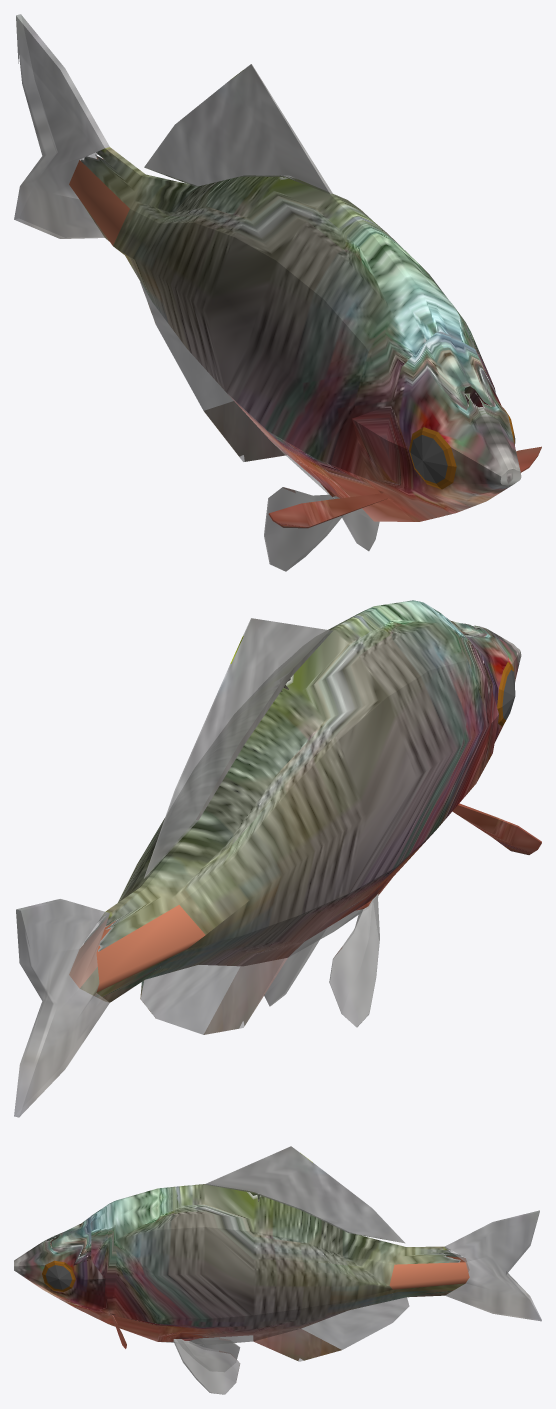
Rendered from kurumeusu.fbx.
The picture shows the model from 3 angles, top to bottom: view 1: azimuth 30°, elevation 25°; view 2: azimuth 150°, elevation 25°; view 3: azimuth 270°, elevation 25°; orthographic projection. The views are drawn at different scales.
Visible parts, largest first — view 1: pCube2; view 2: pCube2; view 3: pCube2.
Part boxes in pixels (left/top/right/bottom): pCube2: left=14, top=14, right=541, bottom=571; pCube2: left=14, top=600, right=541, bottom=1117; pCube2: left=14, top=1146, right=541, bottom=1394.
Size of the model in its own units: 2.29 by 3.55 by 7.17.
